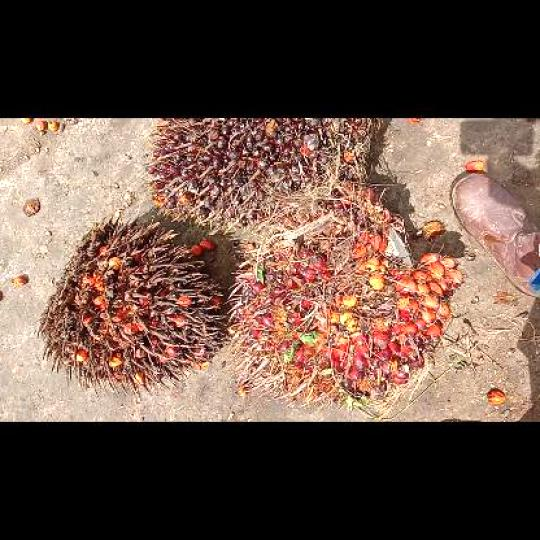kurang masak: (152, 117, 378, 233)
masak: (230, 182, 461, 400)
terlalu masak: (38, 222, 222, 388)
